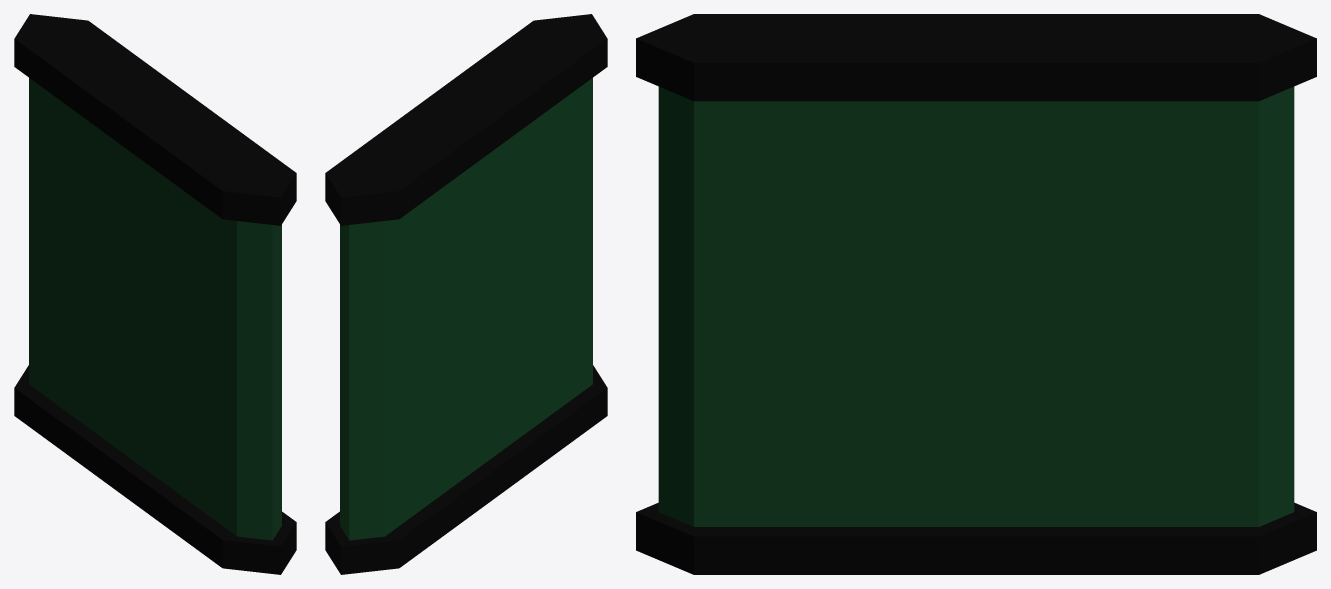
Rendered from obstacle.fbx.
3 renders of one model, left to right at view 1: azimuth 30°, elevation 25°; view 2: azimuth 150°, elevation 25°; view 3: azimuth 270°, elevation 25°, orthographic. The views are drawn at different scales.
Visible parts, largest first — view 1: wall_skyscraperGlass%_2; view 2: wall_skyscraperGlass%_2; view 3: wall_skyscraperGlass%_2.
Part boxes in pixels (x1,y1,x2,y2): wall_skyscraperGlass%_2: [14, 14, 296, 574]; wall_skyscraperGlass%_2: [325, 14, 607, 574]; wall_skyscraperGlass%_2: [636, 14, 1316, 574].
Size of the model in its own units: 2.05 by 10 by 12.05.
